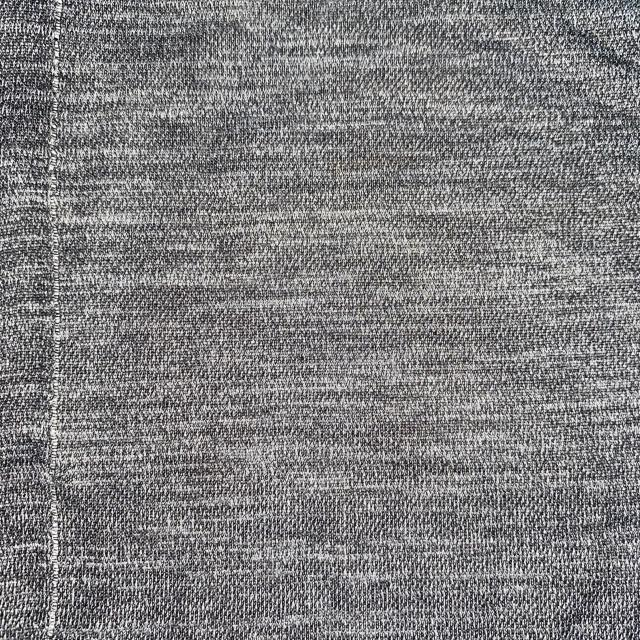Line: (44, 0, 65, 638)
